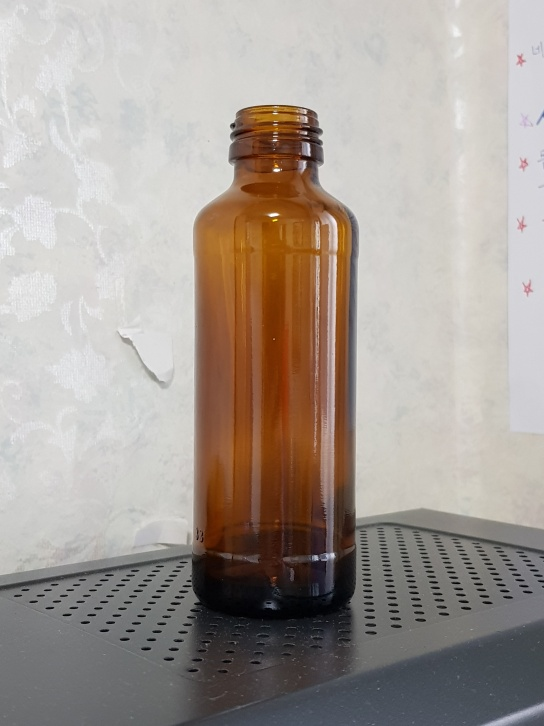Glass: (190, 103, 358, 620)
